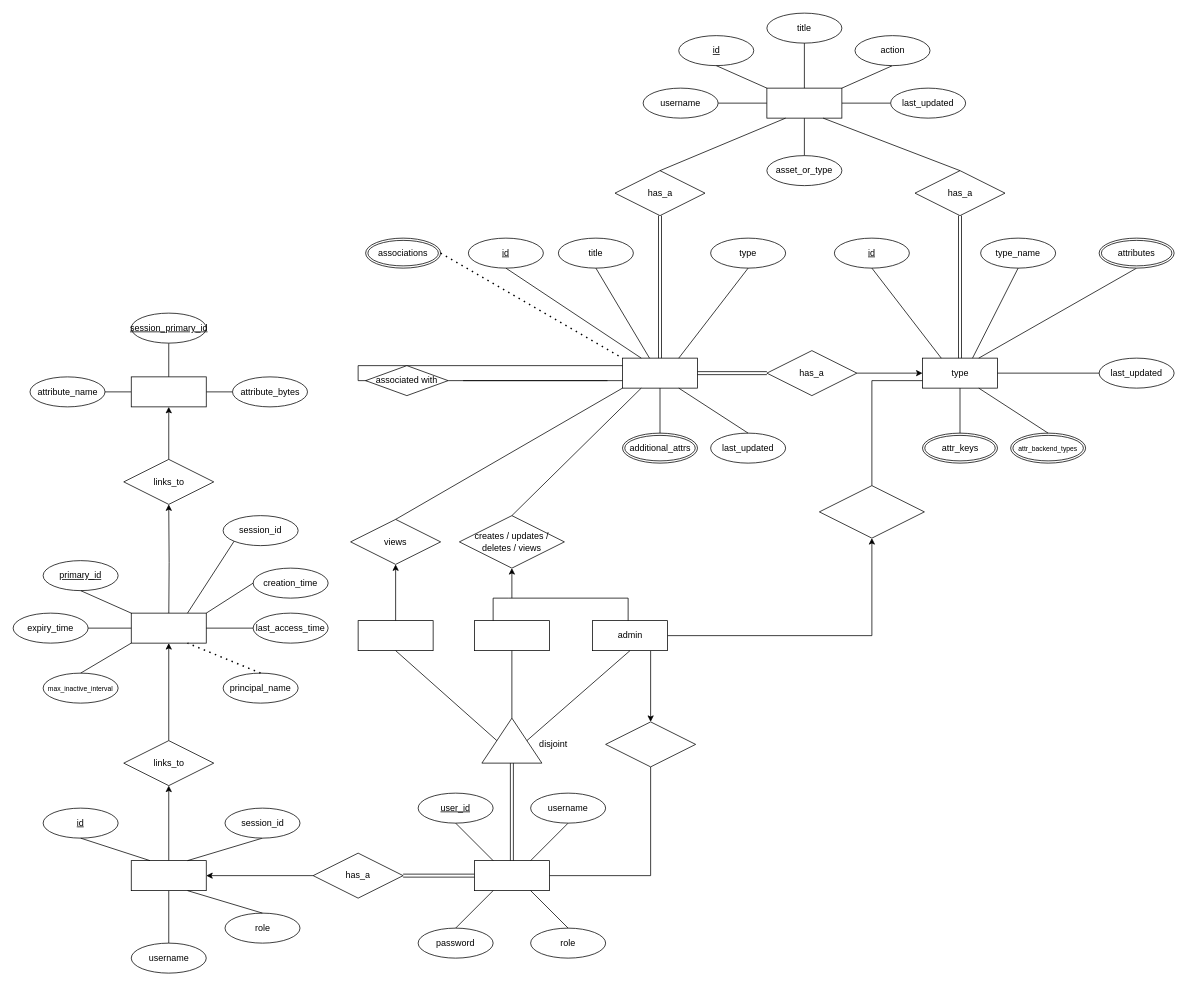
Image size: 1187x986. Some labels were removed from this diagram. The centre of each missing label's shape, as x and y in pixels:
asset: pixel 660 372
audit log entry: pixel 804 102
creates / updates / deletes: pixel 871 511
edits role of: pixel 650 744
generic session: pixel 168 875
ISA: pixel 511 740
spring session: pixel 168 627
spring session attributes entity: pixel 168 391
std. user: pixel 511 635
user: pixel 511 875
viewer: pixel 395 635
